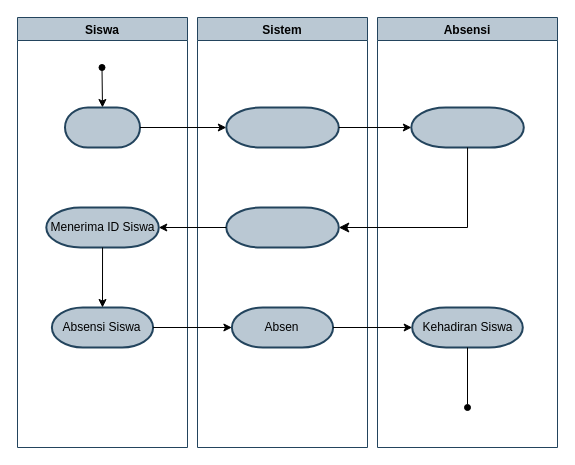
This 575x465 diagram has some shape labels left out. The centre of each missing label's shape, as x and y in pixels:
Entri Data: the point at 102,127
Mencetak ID Siswa: the point at 282,227
Menerima Data Siswa: the point at 282,127
Menyimpan Data Siswa: the point at 467,127
